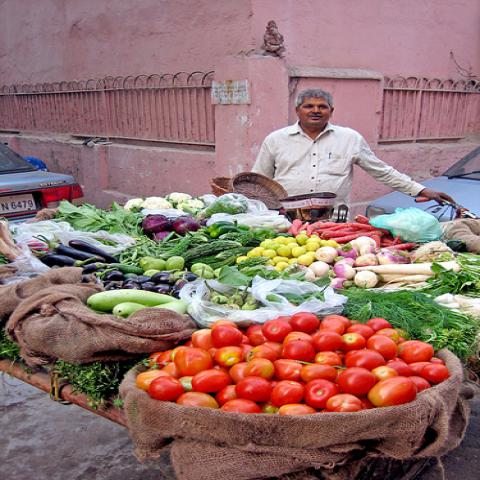car: (0, 141, 479, 223)
